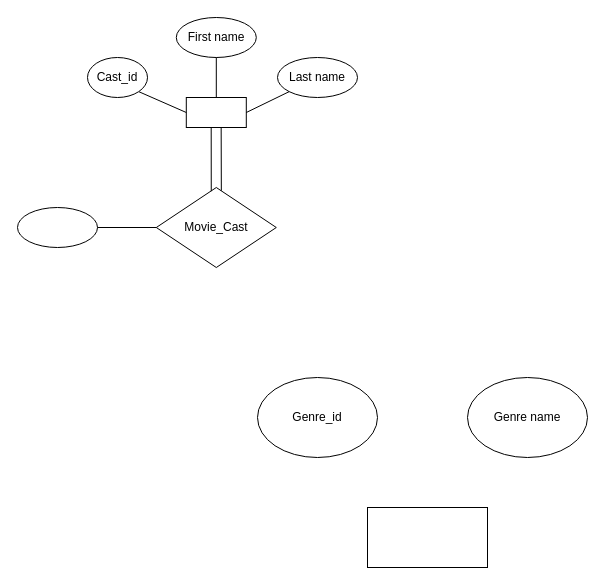
The diagram is 605 pixels wide and 585 high, and some of its shapes have lost their labels. The shapes that lost their labels are listed below. From the top down, each one's centre as x and y in pixels, then its label:
At pixel 215 112: "Cast".
At pixel 57 227: "Acting As".
At pixel 427 537: "Genre".
